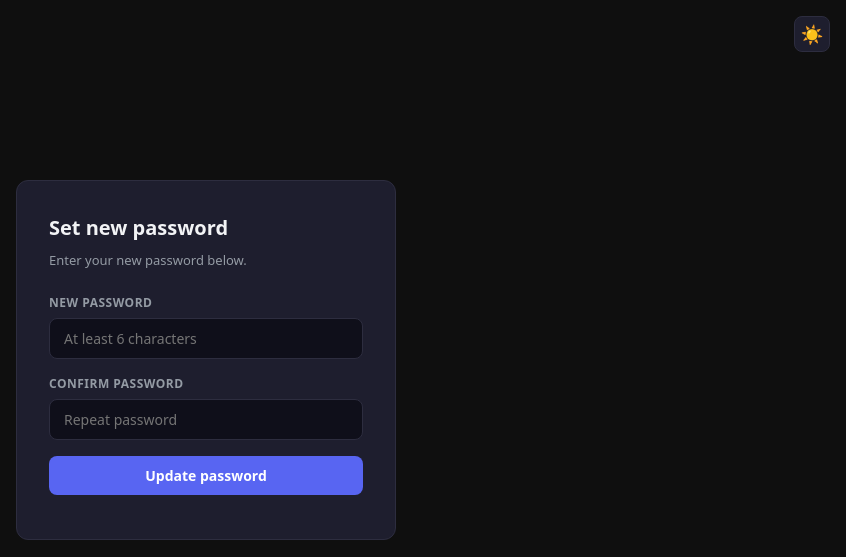
Scenario: shows success message after successful reset
The image size is (846, 557).
Type "Newpass1!" into the password field with test id "rp-password" at (206, 339), box [49,318,363,359]
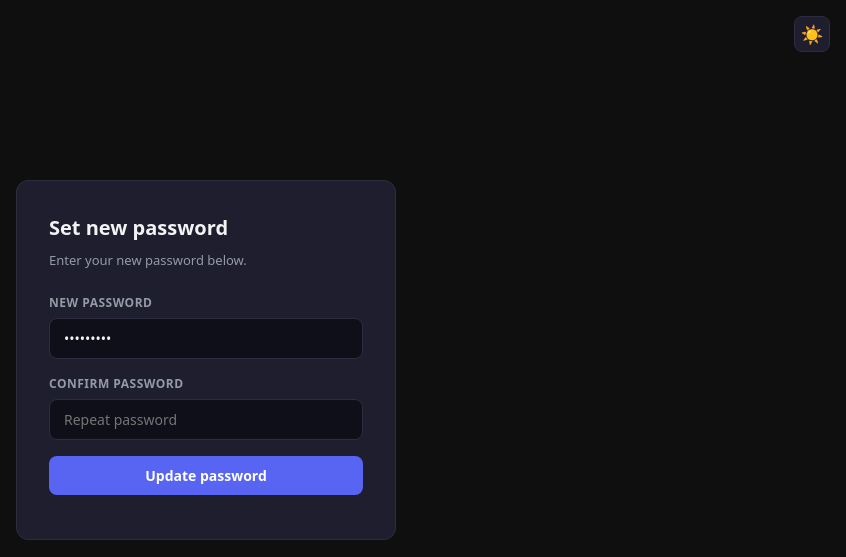
Type "Newpass1!" into the password field with test id "rp-confirm" at (206, 420), box [49,399,363,440]
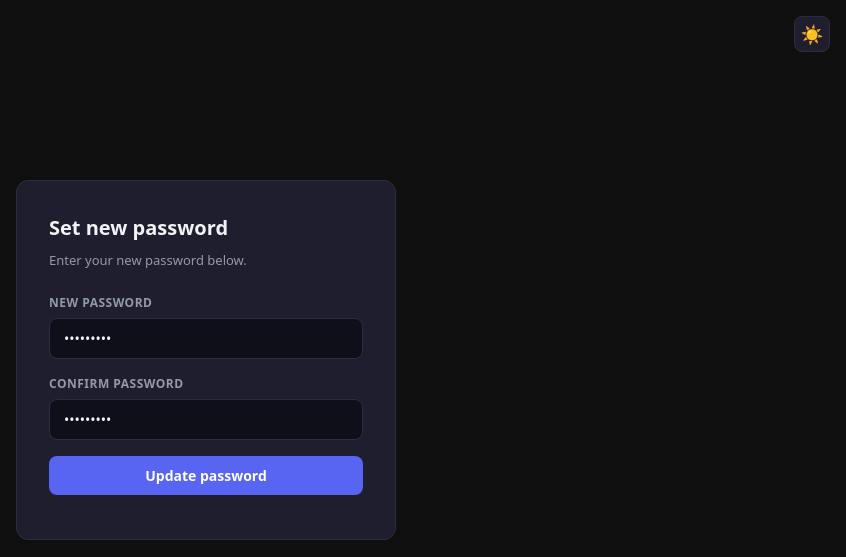
Click the button with test id "rp-submit" at (206, 476), box [49,456,363,495]
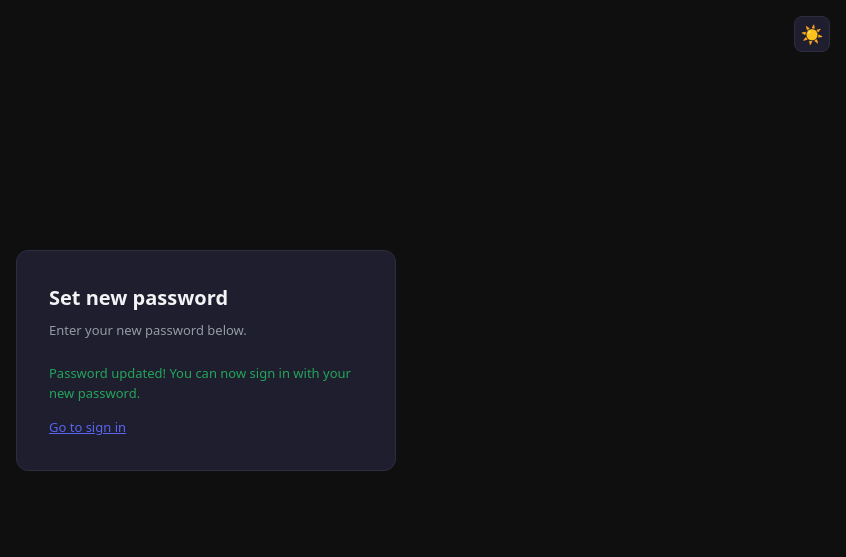
Expected: the text with test id "reset-success" is shown, [49,364,363,403]
